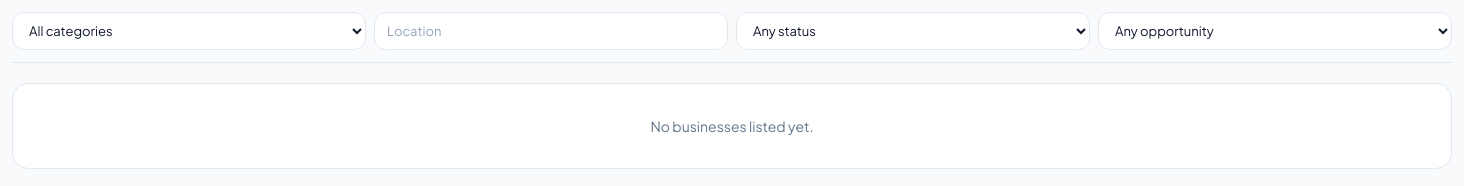
it: business directory (W01) › an empty directory says nothing is listed yet, and only blames the search when there is one
The image size is (1464, 186).
Expected: the text "No businesses listed yet." is shown, [12,83,1452,169]
Select "Created on EnterprateAI, not verified" in the dropdown named "Profile status": (913, 31) [736,12,1090,50]
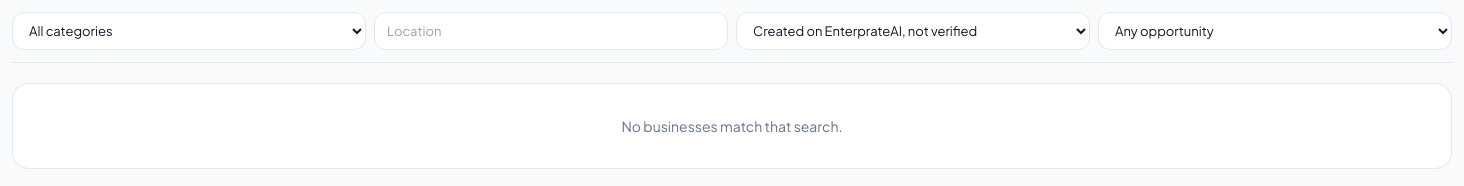
Result: the text "No businesses match that search." is shown at [12,83,1452,169]
